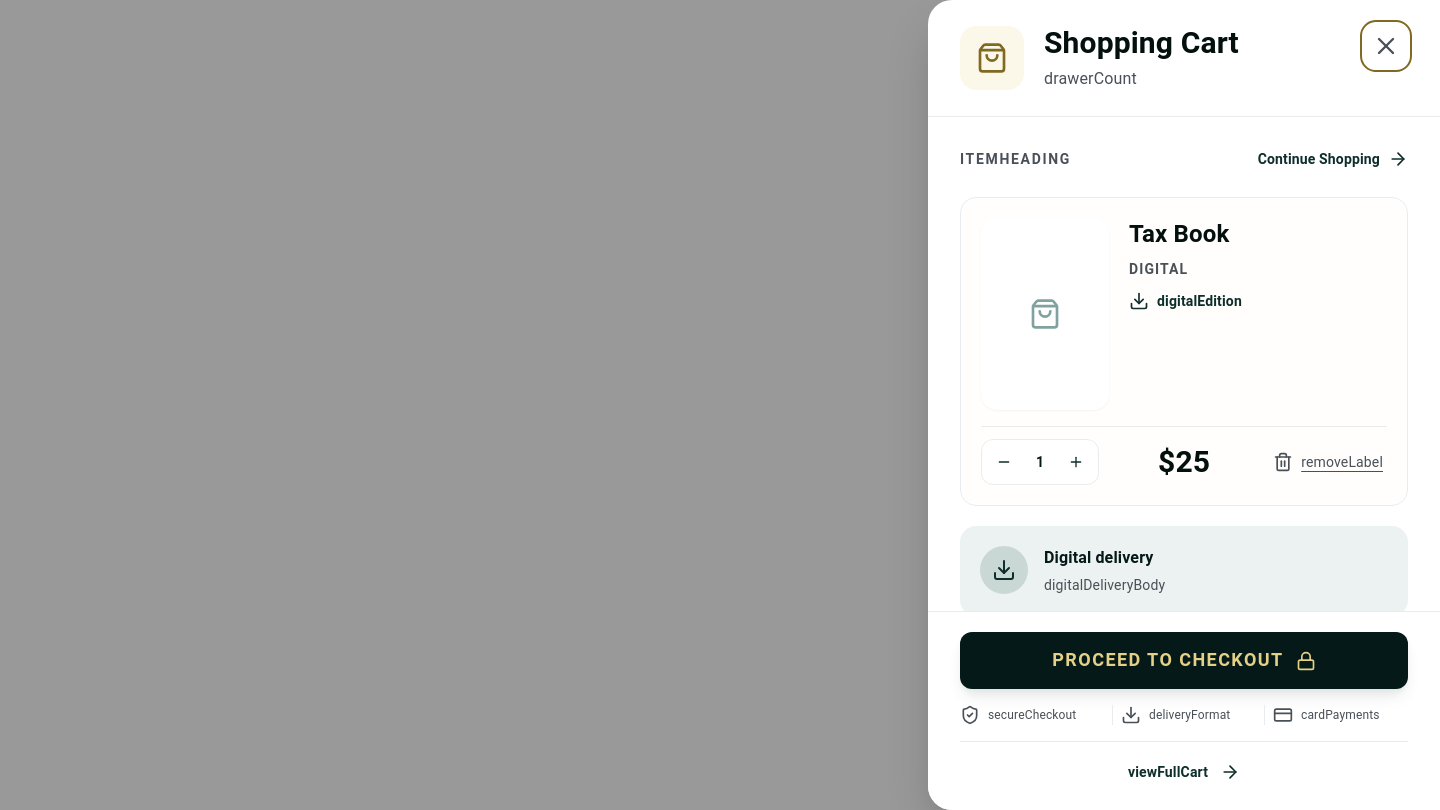
Test: CartSidebar › keeps full-cart controls named and announces checkout failure without closing
Expected: the dialog "Shopping Cart" is shown, [928,0,1439,809]
Expected: the button with aria-label "Remove Tax Book from cart" is shown, [1269,440,1387,484]
Click the button "Proceed to Checkout". click: (1184, 661)
box: [960,632,1408,689]
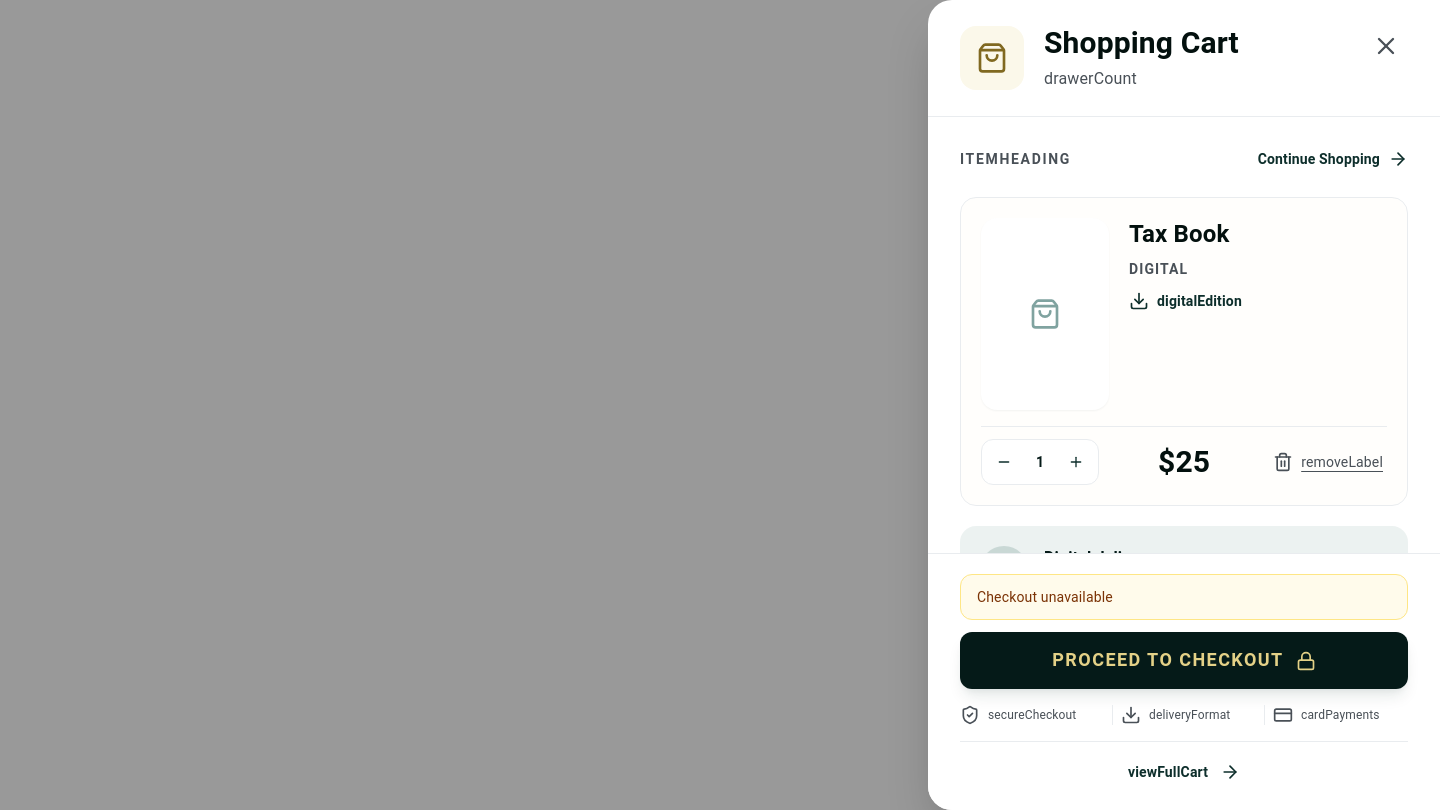
Expected: the dialog is shown, [928,0,1439,809]
Now the message reads "Checkout unavailable", box [977,589,1113,605]
